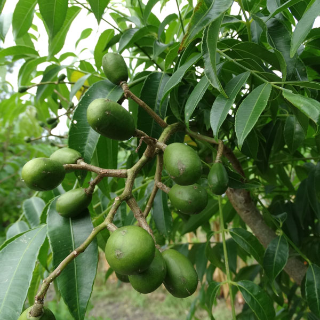coc: (106, 226, 154, 275), (87, 99, 137, 142), (162, 142, 203, 184), (23, 158, 65, 190), (56, 189, 92, 217), (101, 51, 129, 85), (208, 163, 231, 195)
